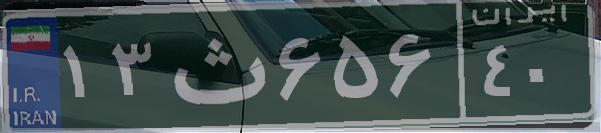0: (525, 38, 570, 115)
1: (57, 26, 110, 107)
3: (110, 28, 158, 105)
4: (475, 38, 525, 113)
5: (330, 28, 385, 110)
6: (385, 28, 445, 110), (273, 28, 330, 110)
ث: (158, 15, 273, 115)
